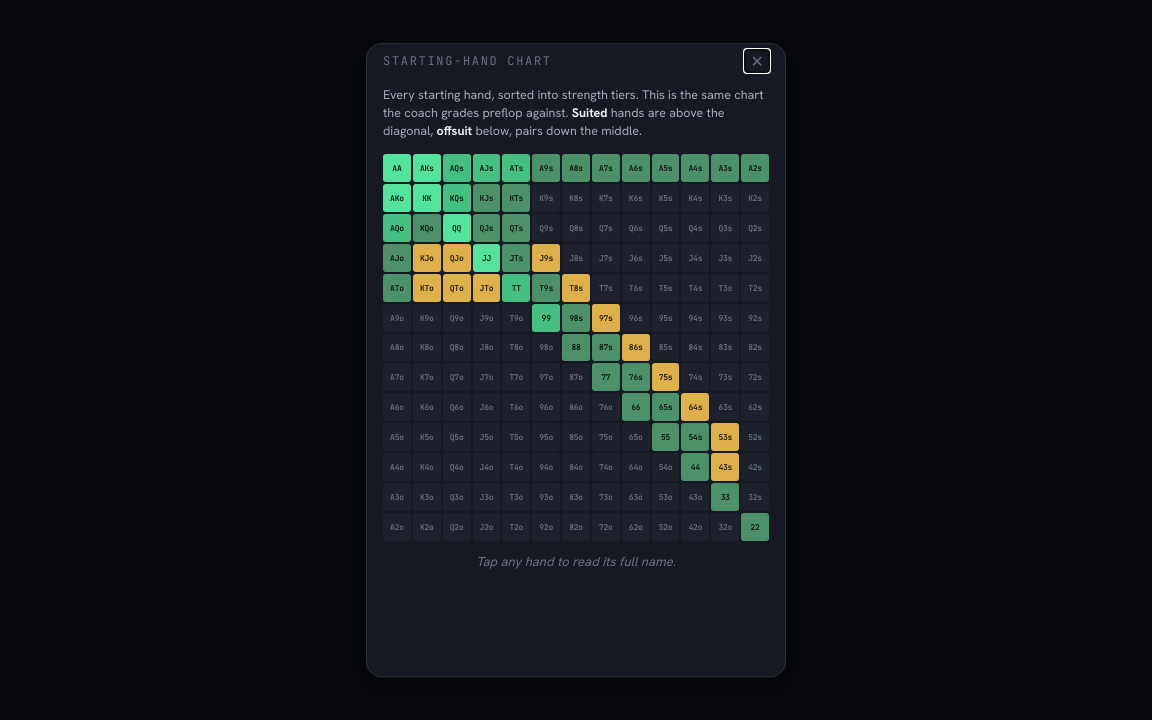
ChartOverlay › prompts for a tap, then decodes the tapped hand in the caption
The width and height of the screenshot is (1152, 720).
Expected: the element with test id "chart-caption" shows "Tap any hand", [476, 553, 676, 570]
Tapping JTo decodes it in words with its tier.
What coordinates should you click on to do the following:
click the button titled "JTo, "
I would click on:
 (486, 288)
Its box is [472, 274, 500, 302].
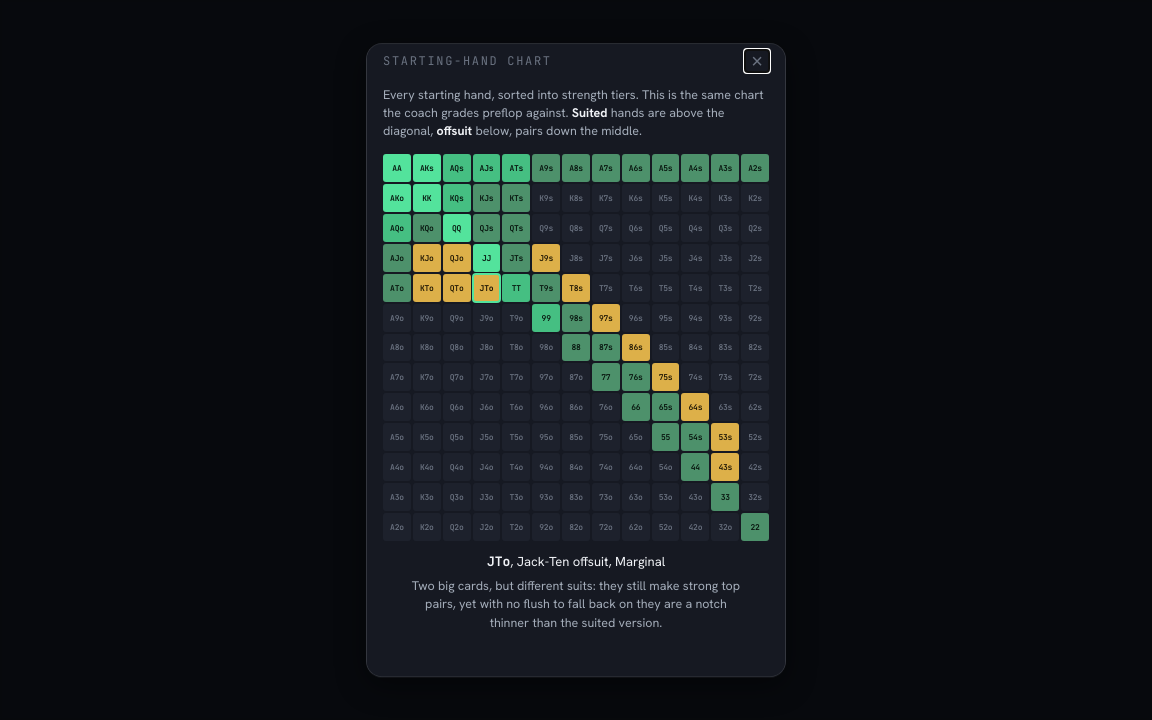
Now the element with test id "chart-caption" shows "JTo", box [487, 553, 510, 570]
Now the element with test id "chart-caption" shows "Jack-Ten offsuit", box [517, 553, 608, 570]
Now the element with test id "chart-caption" shows "Marginal", box [615, 553, 665, 570]
